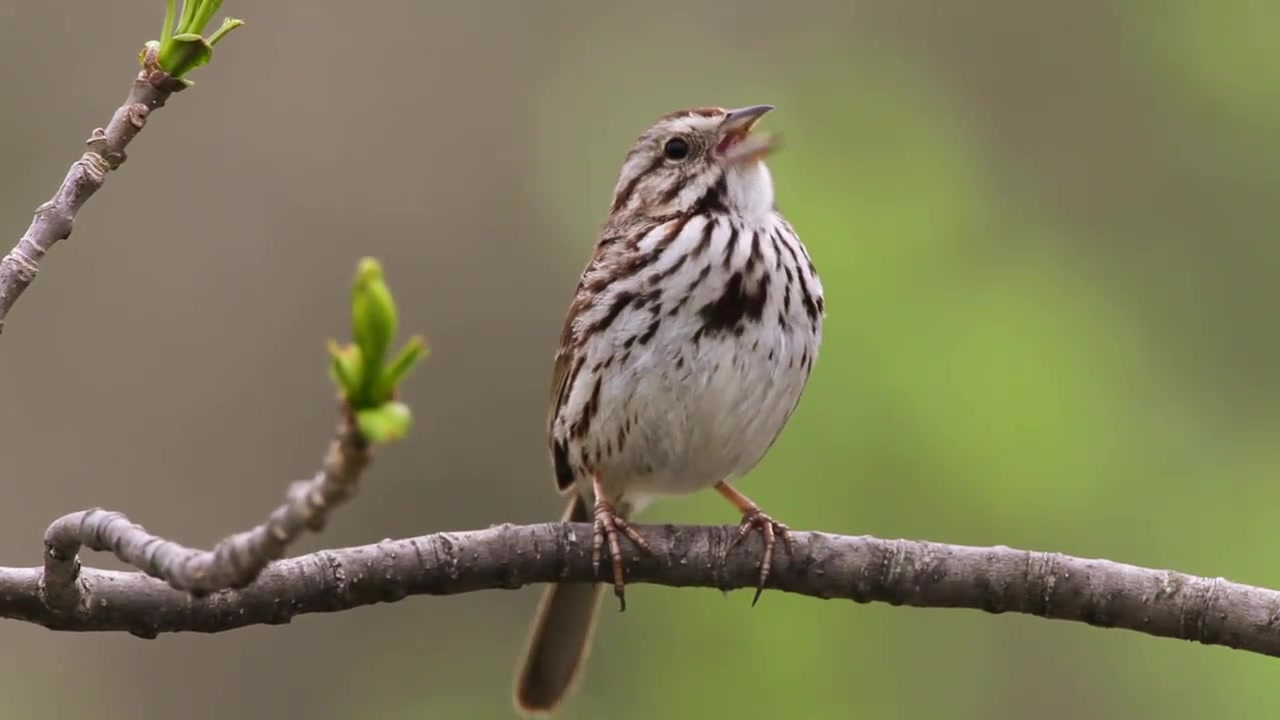bird: (515, 105, 828, 712)
